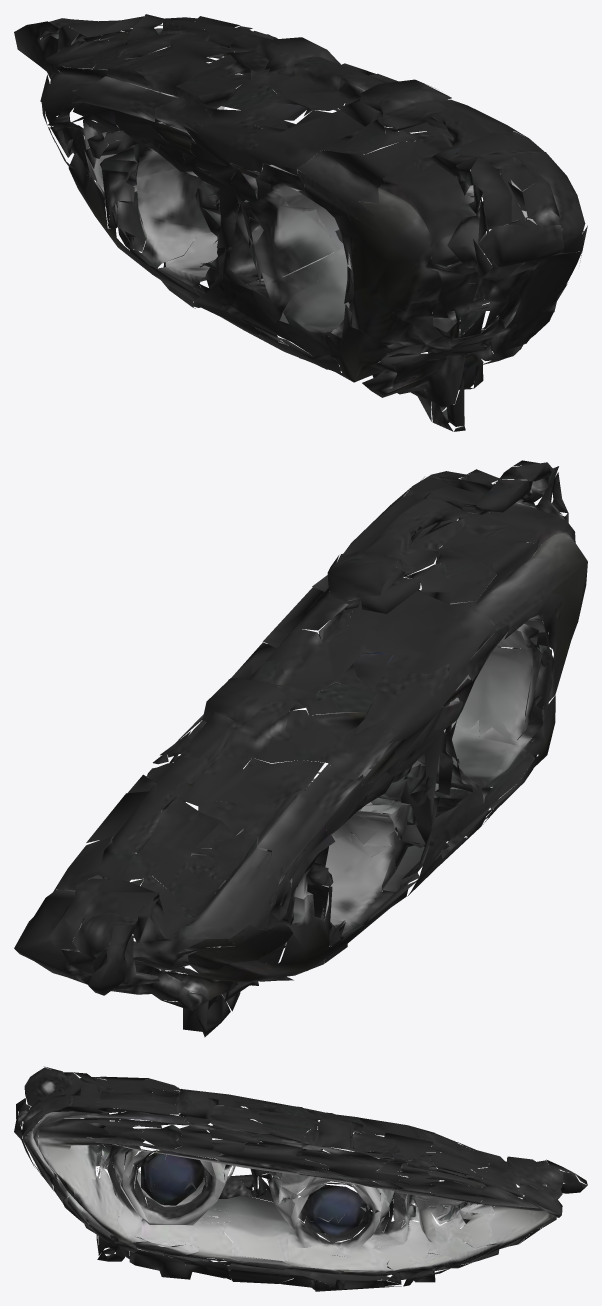
The model's file is common_headlight.glb.
The picture shows the model from 3 angles, top to bottom: view 1: azimuth 30°, elevation 25°; view 2: azimuth 150°, elevation 25°; view 3: azimuth 270°, elevation 25°; orthographic projection. The views are drawn at different scales.
Visible parts, largest first — view 1: tripo_node_aa3c9ceb-6220-4a2b-a473-4ce97cf9ecda; view 2: tripo_node_aa3c9ceb-6220-4a2b-a473-4ce97cf9ecda; view 3: tripo_node_aa3c9ceb-6220-4a2b-a473-4ce97cf9ecda.
Boxes of the visible parts, x1,y1,x2,y2 form: tripo_node_aa3c9ceb-6220-4a2b-a473-4ce97cf9ecda: (14,14,587,431); tripo_node_aa3c9ceb-6220-4a2b-a473-4ce97cf9ecda: (14,460,587,1037); tripo_node_aa3c9ceb-6220-4a2b-a473-4ce97cf9ecda: (14,1066,587,1291).
Size of the model in its own units: 0.2221 by 0.3971 by 1.
Materials: 1 (1 with a texture image).
